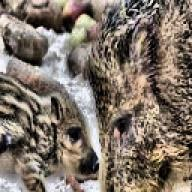boar: (82, 0, 192, 192)
